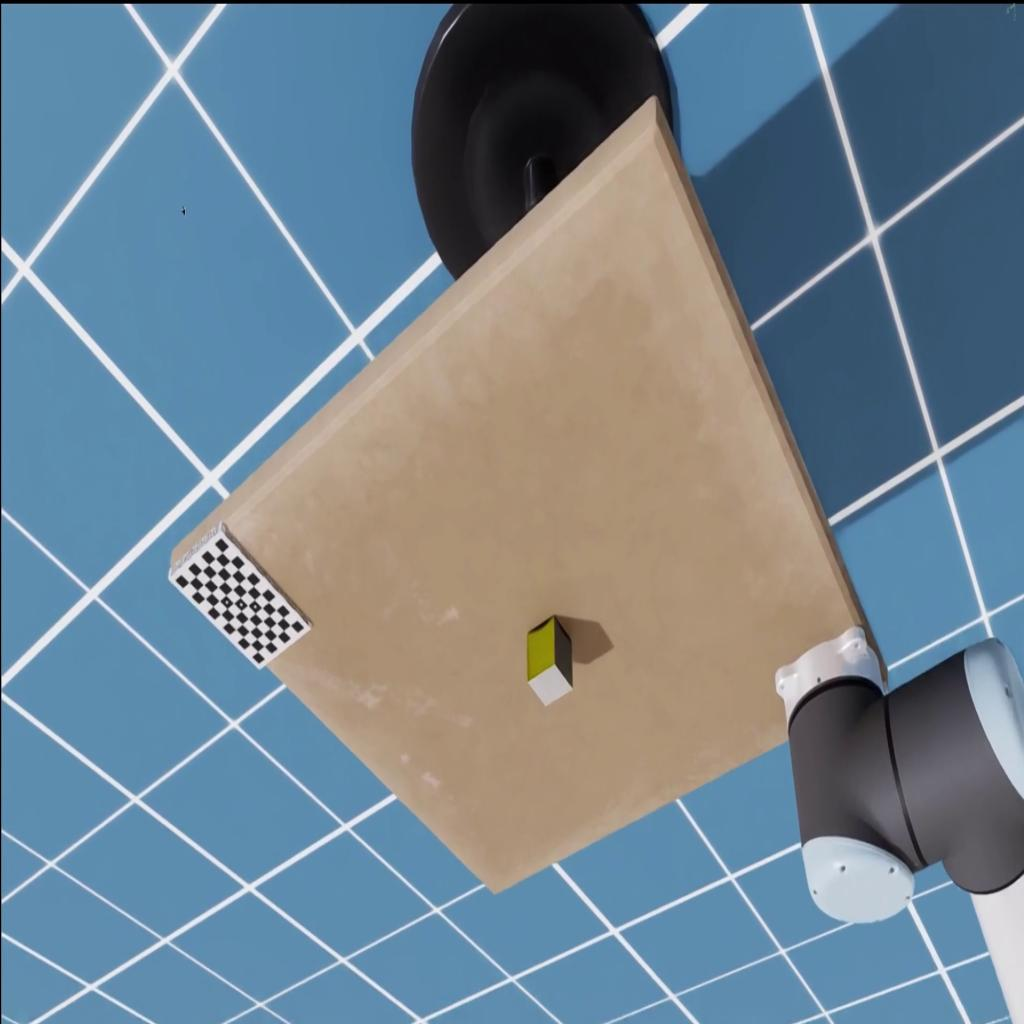Cube: (526, 616, 573, 706)
QR: (168, 520, 312, 670)
Robot: (773, 622, 1024, 1024)
Table: (170, 90, 888, 894)
